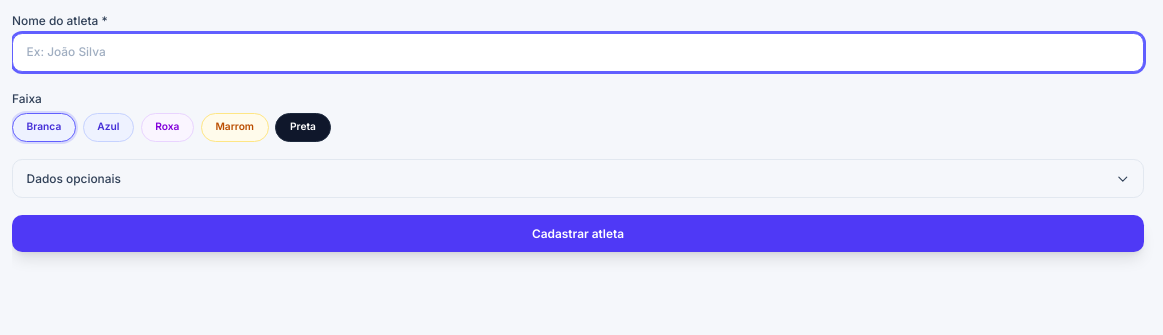
PersonForm › mostra as mensagens de validação devolvidas pela API (issues do zod)
Type "Bruno" into the field labelled "Nome do atleta *" at (578, 53), box [12,33,1144,72]
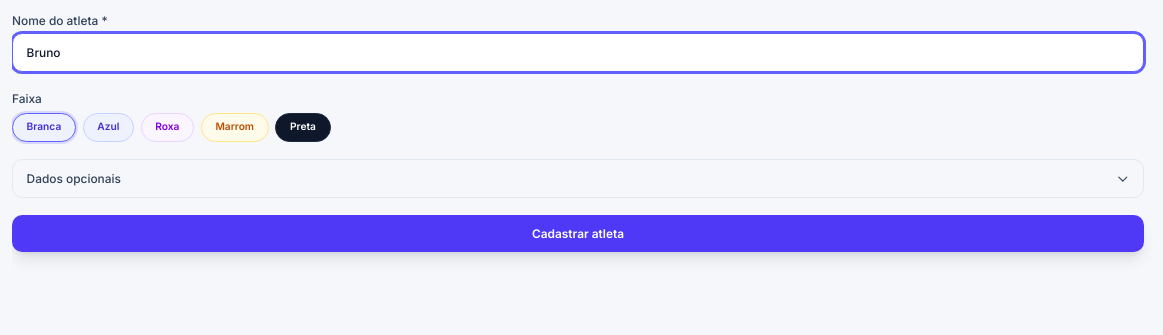
Click the button "Cadastrar atleta" at (578, 234), box [12,215,1144,252]
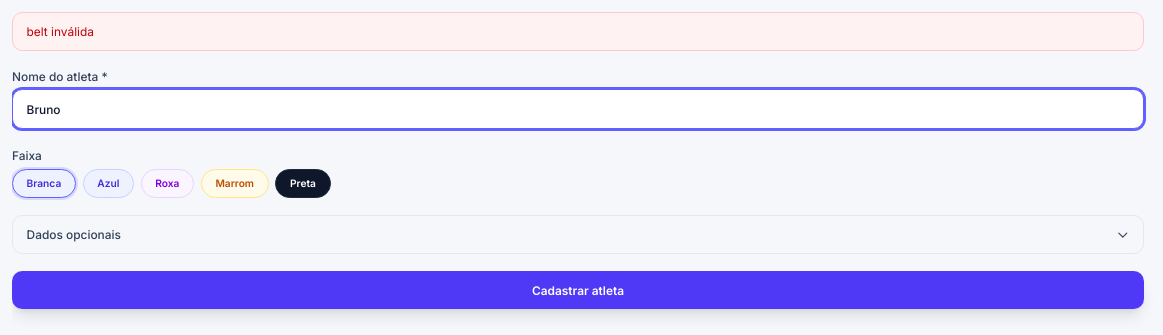
Expected: the message reads "belt inválida", [27,24,94,39]
